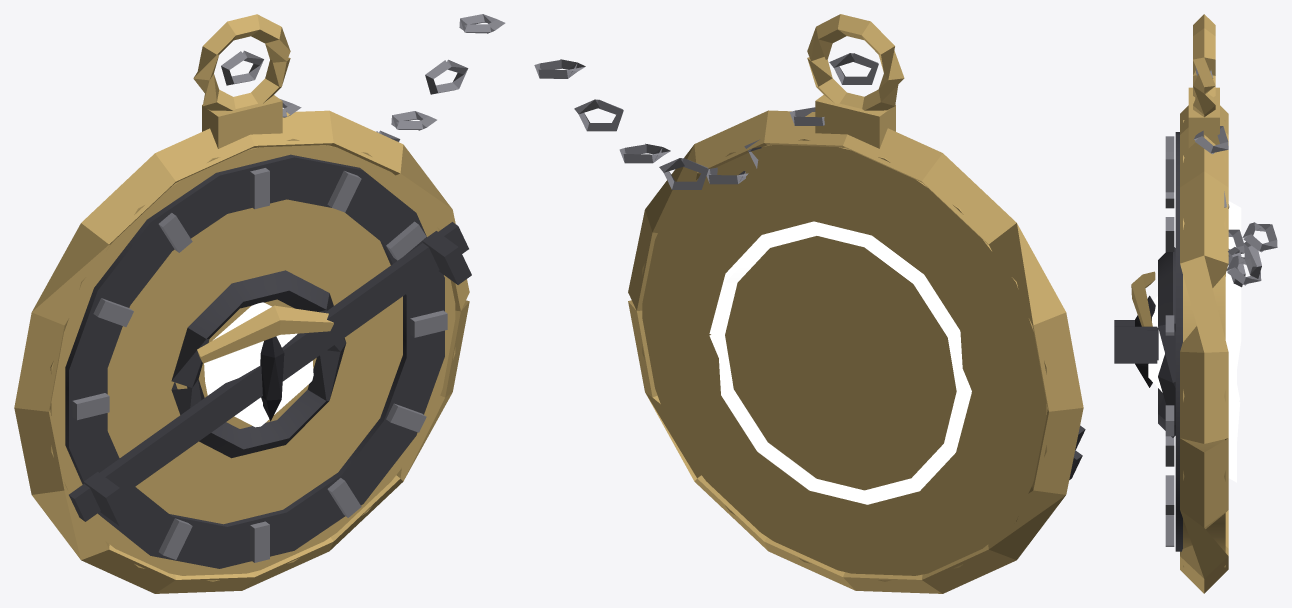
Rendered from astrolabe-pocket.glb.
3 renders of one model, left to right at view 1: azimuth 30°, elevation 25°; view 2: azimuth 150°, elevation 25°; view 3: azimuth 270°, elevation 25°, orthographic. The views are drawn at different scales.
Visible parts, largest first — view 1: astrolabe_pocket; view 2: astrolabe_pocket; view 3: astrolabe_pocket.
Part boxes in pixels (x1,y1,x2,y2): astrolabe_pocket: (14, 14, 505, 593); astrolabe_pocket: (534, 14, 1085, 593); astrolabe_pocket: (1114, 14, 1277, 593).
Size of the model in its own units: 0.8632 by 0.9083 by 0.2443.
